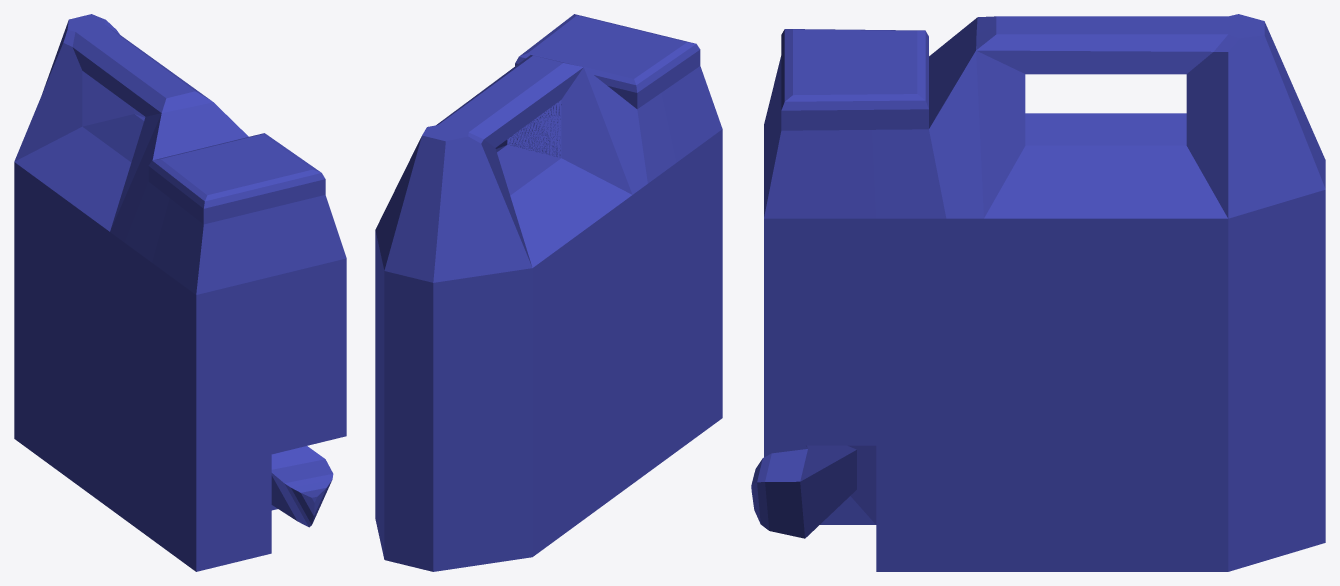
Rendered from WaterJug.glb.
The picture shows the model from 3 angles, left to right: view 1: azimuth 30°, elevation 25°; view 2: azimuth 150°, elevation 25°; view 3: azimuth 270°, elevation 25°; orthographic projection. The views are drawn at different scales.
Parts seen in each view (by area): view 1: Cube; view 2: Cube; view 3: Cube.
Part boxes in pixels (x1,y1,x2,y2): Cube: (14,14,346,571); Cube: (375,14,722,571); Cube: (751,14,1325,571).
Bounding box in the file's own units: 0.2774 × 0.6902 × 0.7188.
